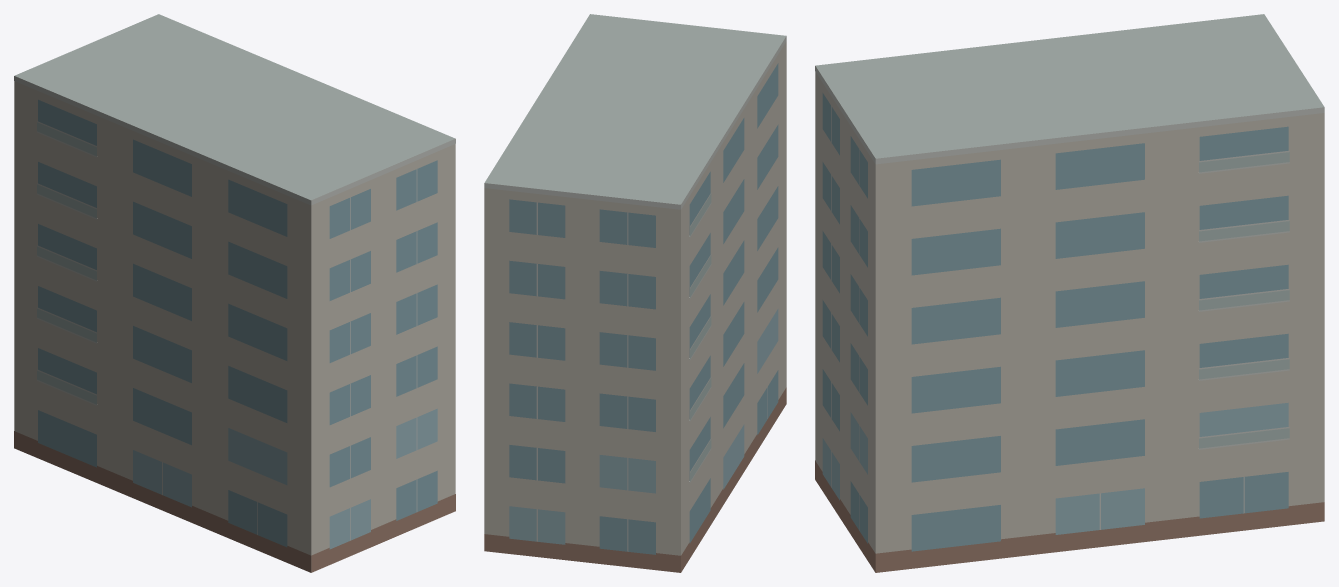
The model's file is survey-upis-32985277.glb.
3 renders of one model, left to right at view 1: azimuth 30°, elevation 25°; view 2: azimuth 150°, elevation 25°; view 3: azimuth 270°, elevation 25°, orthographic. The views are drawn at different scales.
Visible parts, largest first — view 1: survey-upis-32985277.tmp; view 2: survey-upis-32985277.tmp; view 3: survey-upis-32985277.tmp.
Boxes of the visible parts, x1=… form: survey-upis-32985277.tmp: x1=14, y1=14, x2=455, y2=572; survey-upis-32985277.tmp: x1=484, y1=14, x2=786, y2=572; survey-upis-32985277.tmp: x1=815, y1=14, x2=1324, y2=572.
Bounding box in the file's own units: 13.35 × 17.8 × 19.85.
